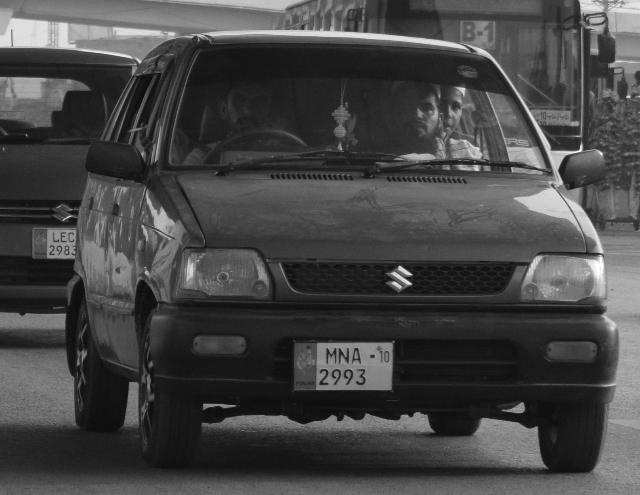Number: (318, 346, 370, 386)
